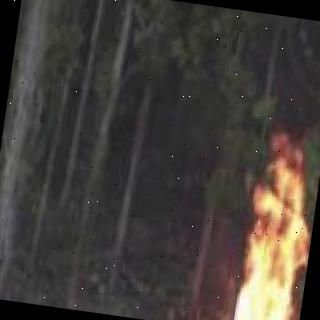fire: (220, 160, 320, 320)
